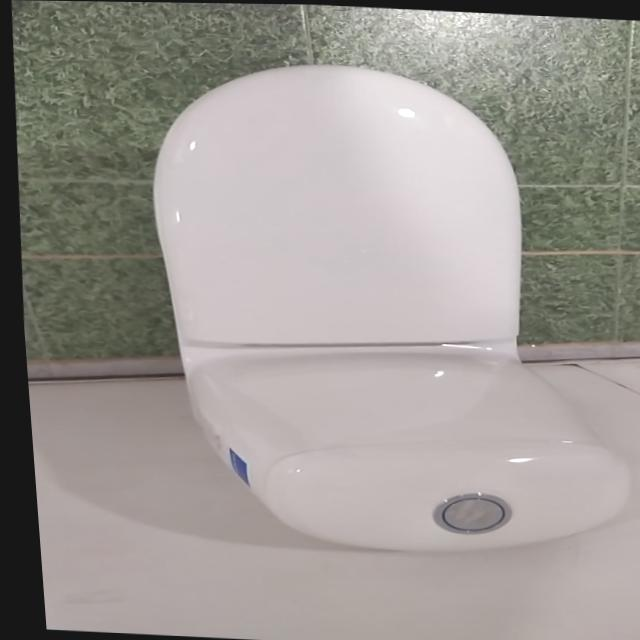toilet: (128, 54, 640, 562)
